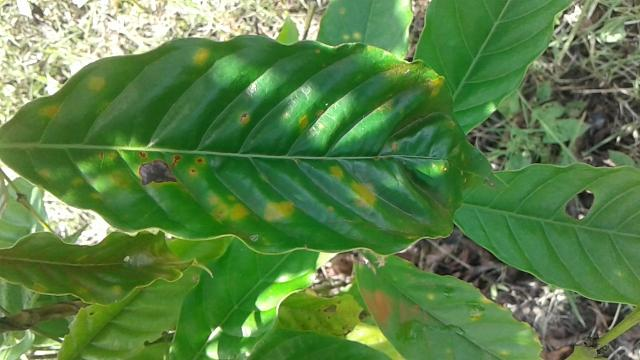rust_level_2: (0, 26, 518, 260)
